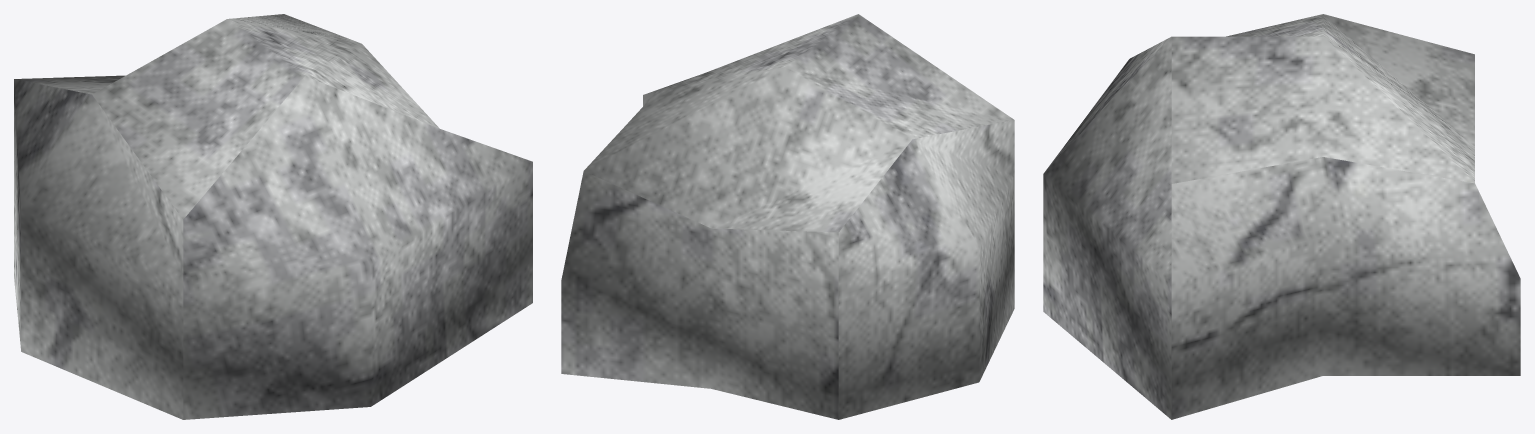
Rendered from rock.fbx.
3 renders of one model, left to right at view 1: azimuth 30°, elevation 25°; view 2: azimuth 150°, elevation 25°; view 3: azimuth 270°, elevation 25°, orthographic. The views are drawn at different scales.
Parts seen in each view (by area): view 1: rock; view 2: rock; view 3: rock.
Boxes of the visible parts, bbox=[...] form: rock: bbox=[14, 14, 532, 419]; rock: bbox=[561, 14, 1014, 419]; rock: bbox=[1043, 14, 1520, 419].
Bounding box in the file's own units: 98.2 × 63.39 × 96.16.
